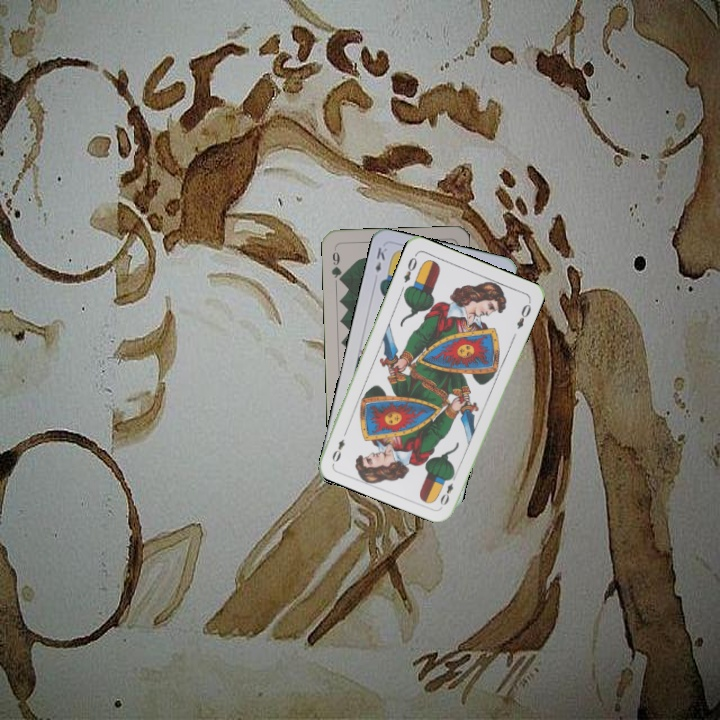EK: (371, 243, 389, 275)
EO: (436, 470, 459, 508), (399, 250, 420, 285)
G9: (327, 244, 345, 285)
